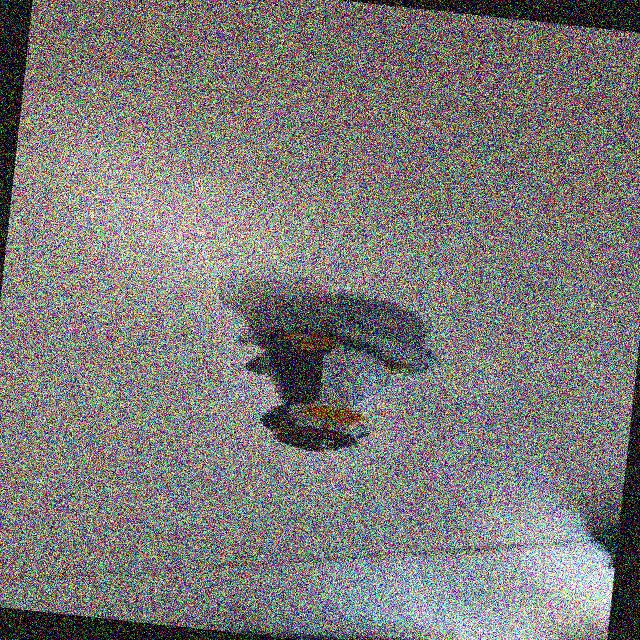Penguin: (214, 297, 444, 474)
